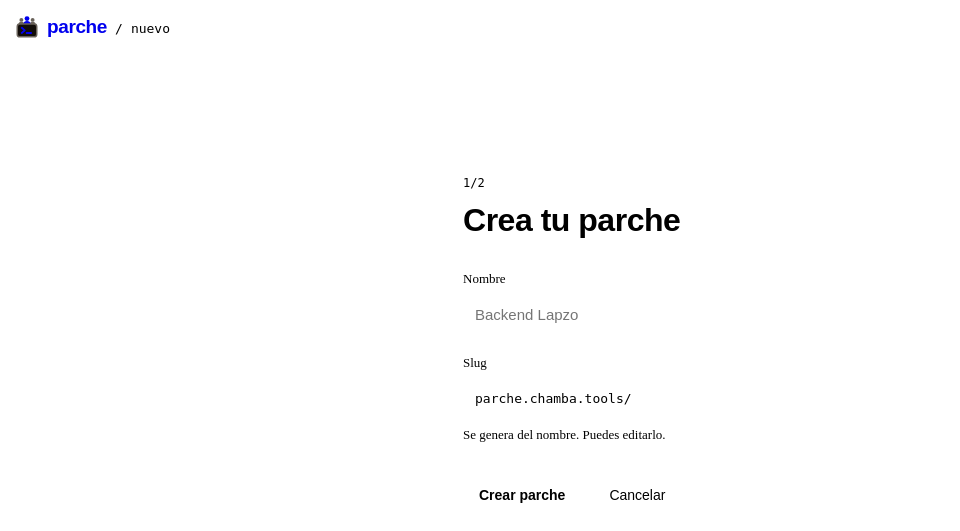
Test: NuevoPage › shows slug-taken error on 409
In the field labelled "Nombre": {"x": 703, "y": 315} [463,295,943,335], type "test"
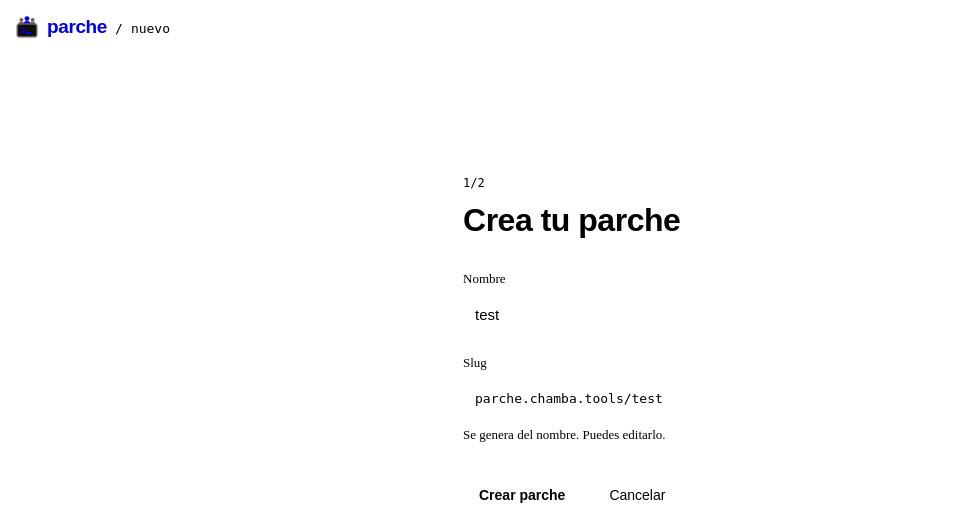
Click the button "Crear parche": {"x": 522, "y": 495} [463,475,581,515]
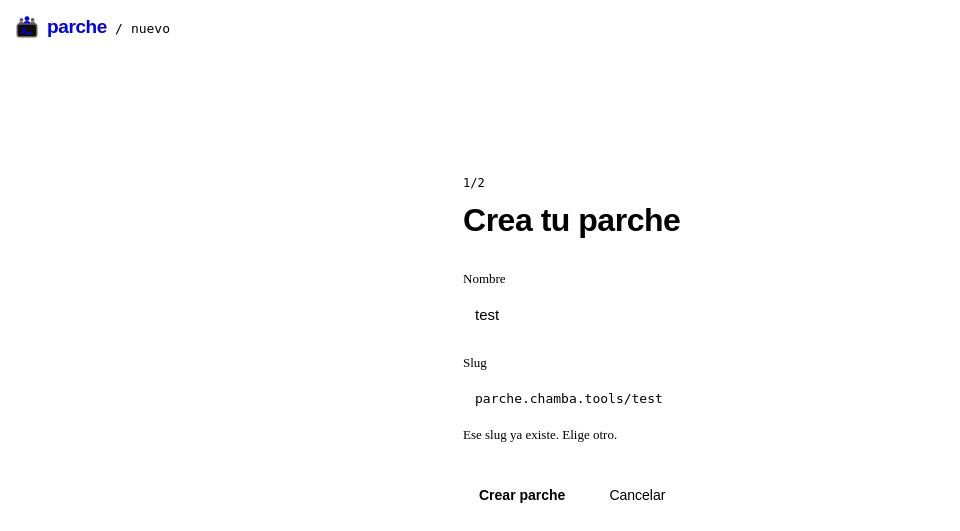
Expected: the text "Ese slug ya existe. Elige otro." is shown, [463,427,617,442]
